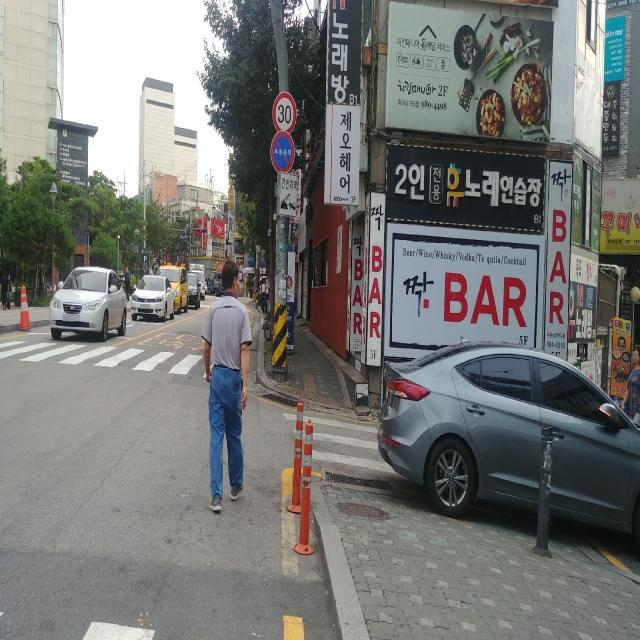횡단보도: (0, 335, 242, 376), (282, 412, 400, 475)
